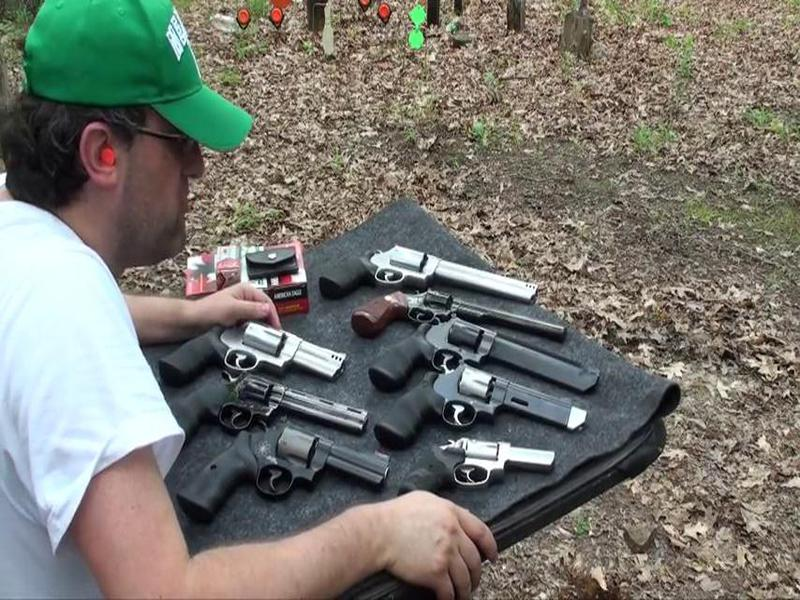Revolver: (177, 422, 395, 524)
